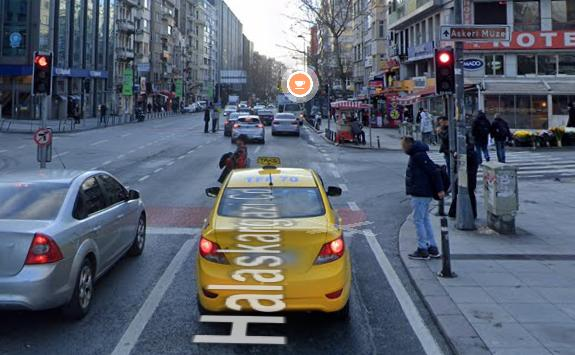leftturnsareforbidden: (31, 124, 56, 150)
redlight: (28, 47, 58, 100), (432, 44, 458, 95)
